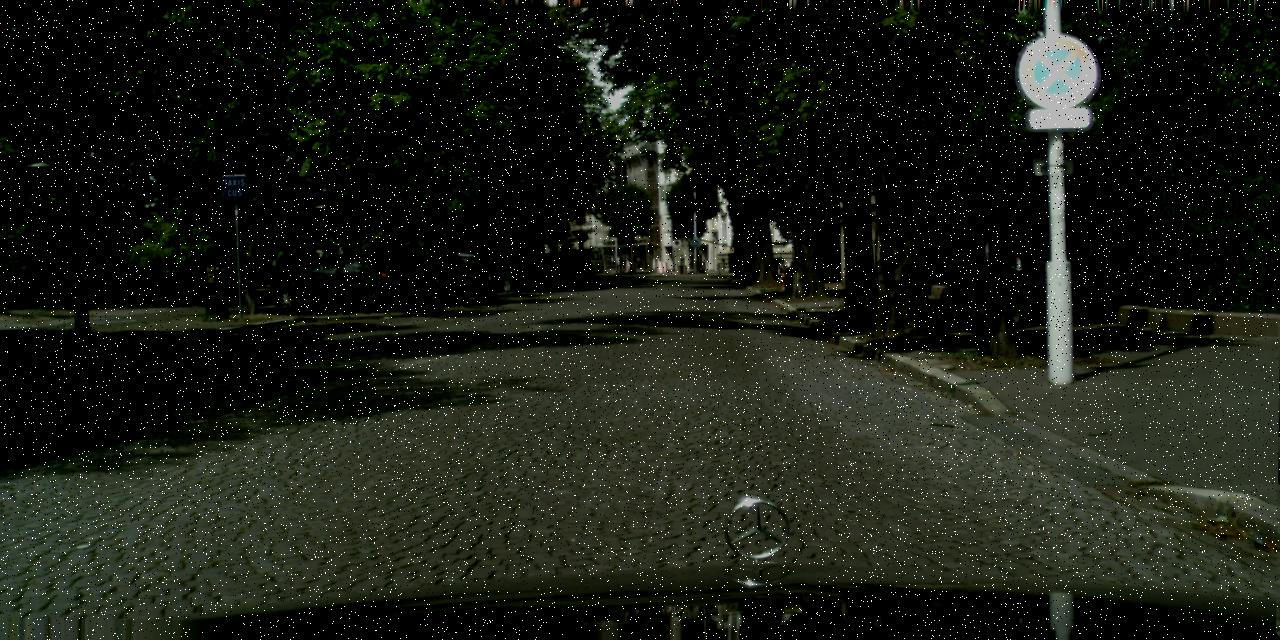ped: (990, 238, 1031, 340), (971, 234, 1009, 327), (778, 266, 788, 290)
